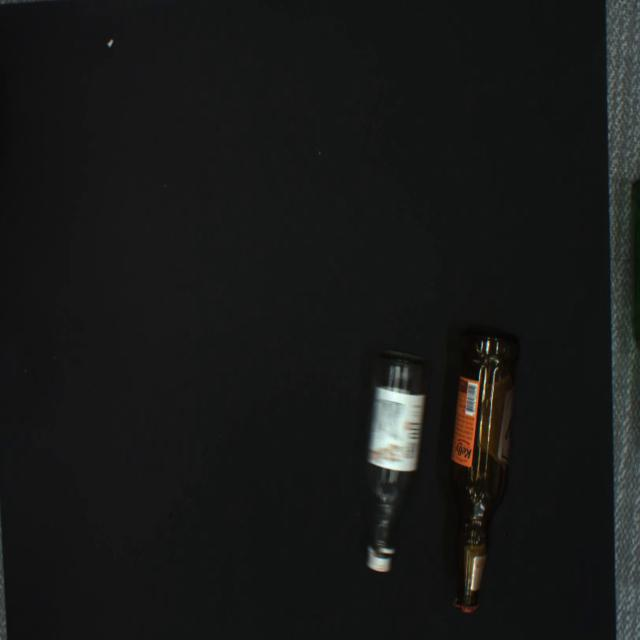beer-bottle: (450, 335, 518, 613)
soju-bottle: (364, 349, 429, 573)
